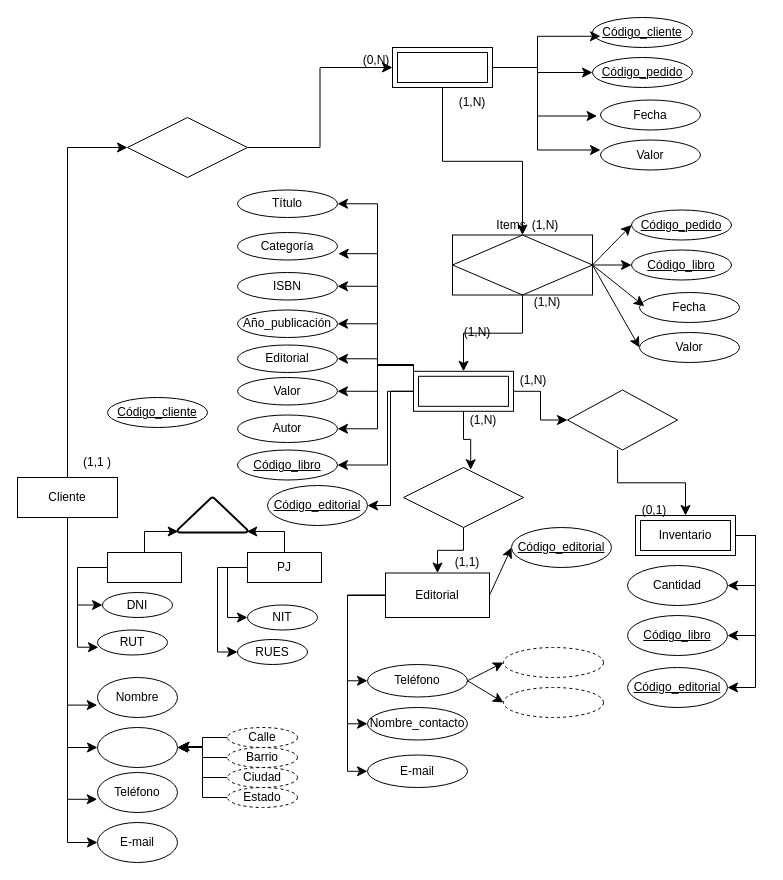
The diagram is 783 pixels wide and 880 high, and some of its shapes have lost their labels. The shapes that lost their labels are listed below. From the top down, each one's box as (x1, y1, x2, y2) in pixels, then its label:
(392, 46, 492, 88): Pedido
(126, 116, 248, 178): Compra
(452, 234, 592, 295): Contiene
(412, 370, 514, 411): Libro
(566, 389, 678, 450): Existe
(176, 496, 248, 533): ID
(402, 466, 524, 528): Pertenece
(106, 552, 182, 582): PN
(502, 646, 604, 678): Teléfono_1
(502, 686, 604, 718): Teléfono_2
(96, 726, 178, 768): Dirección
